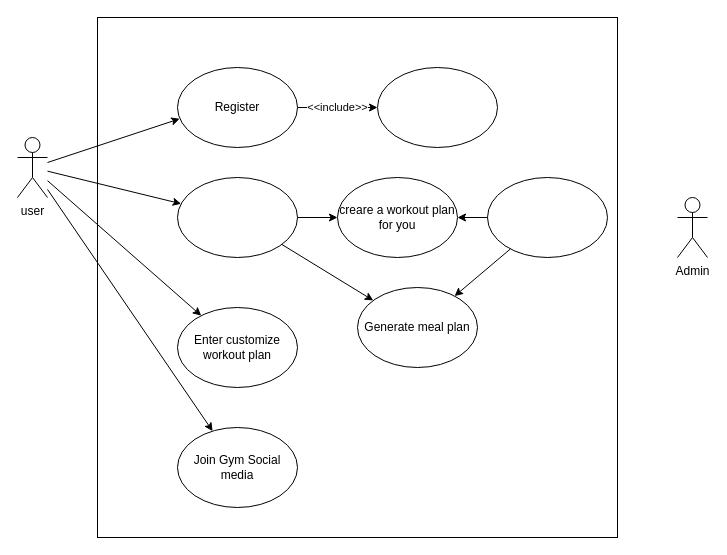
Image size: 727x555. Some labels were removed from this diagram. Each missing label, with the centre of its shape:
Add: point (547, 217)
Enter your body details: point (237, 217)
Login: point (437, 107)
